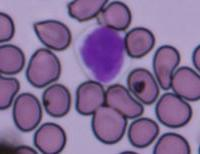L: (76, 24, 127, 86)
